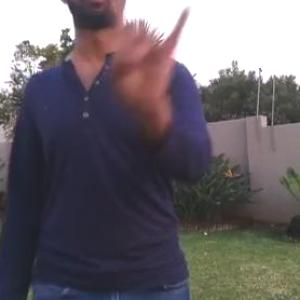takeoff-hand: (103, 0, 199, 129)
